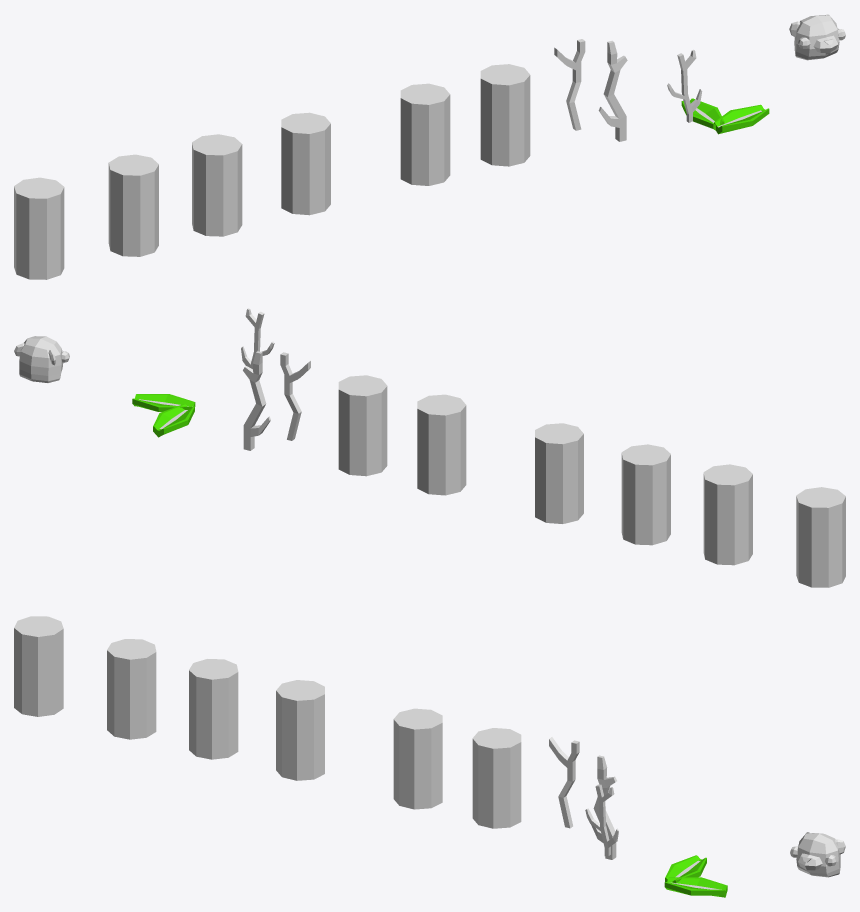
Rendered from Assets.fbx.
3 renders of one model, top to bottom at view 1: azimuth 30°, elevation 25°; view 2: azimuth 150°, elevation 25°; view 3: azimuth 330°, elevation 25°, orthographic.
Visible parts, largest first — view 1: Cylinder.001, Cylinder.003, Cylinder.004, Cylinder.005, Cylinder, Cylinder.002, cabecacastor1.001, Cube.014, Cube.013, Cube.016, Cube.012, Cube.015; view 2: Cylinder, Cylinder.001, Cylinder.003, Cylinder.004, Cylinder.005, Cylinder.002, cabecacastor1.001, Cube.014, Cube.013, Cube.016, Cube.015, Cube.012; view 3: Cylinder.001, Cylinder.003, Cylinder, Cylinder.005, Cylinder.004, Cylinder.002, cabecacastor1.001, Cube.013, Cube.016, Cube.014, Cube.012, Cube.015.
Boxes of the visible parts, left/top/right/bottom form: Cylinder.001: left=400, top=83, right=450, bottom=185; Cylinder.003: left=14, top=177, right=64, bottom=279; Cylinder.004: left=192, top=134, right=242, bottom=236; Cylinder.005: left=108, top=154, right=158, bottom=256; Cylinder: left=480, top=64, right=530, bottom=166; Cylinder.002: left=281, top=112, right=330, bottom=215; cabecacastor1.001: left=794, top=15, right=839, bottom=60; Cube.014: left=598, top=40, right=627, bottom=141; Cube.013: left=554, top=39, right=585, bottom=130; Cube.016: left=714, top=104, right=769, bottom=134; Cube.012: left=667, top=49, right=702, bottom=122; Cube.015: left=681, top=98, right=724, bottom=130; Cylinder: left=338, top=375, right=387, bottom=476; Cylinder.001: left=417, top=394, right=466, bottom=495; Cylinder.003: left=796, top=487, right=845, bottom=587; Cylinder.004: left=621, top=444, right=670, bottom=545; Cylinder.005: left=703, top=464, right=752, bottom=565; Cylinder.002: left=535, top=423, right=583, bottom=523; cabecacastor1.001: left=19, top=336, right=63, bottom=382; Cube.014: left=243, top=351, right=270, bottom=450; Cube.013: left=280, top=352, right=310, bottom=440; Cube.016: left=132, top=394, right=195, bottom=411; Cube.015: left=153, top=404, right=194, bottom=437; Cube.012: left=241, top=308, right=274, bottom=369; Cylinder.001: left=393, top=708, right=442, bottom=809; Cylinder.003: left=14, top=616, right=63, bottom=716; Cylinder: left=472, top=728, right=521, bottom=828; Cylinder.005: left=107, top=639, right=156, bottom=739; Cylinder.004: left=189, top=659, right=238, bottom=759; Cylinder.002: left=276, top=680, right=324, bottom=780; cabecacastor1.001: left=796, top=833, right=840, bottom=877; Cube.013: left=549, top=737, right=579, bottom=828; Cube.016: left=664, top=877, right=727, bottom=897; Cube.014: left=591, top=755, right=616, bottom=859; Cube.012: left=585, top=784, right=618, bottom=856; Cube.015: left=665, top=855, right=706, bottom=883.
Size of the model in its own units: 3741 by 460 by 431.
